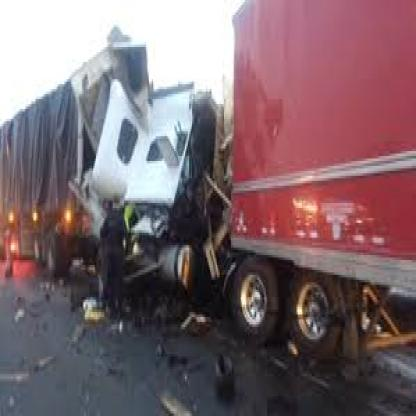accident: (1, 29, 416, 363)
